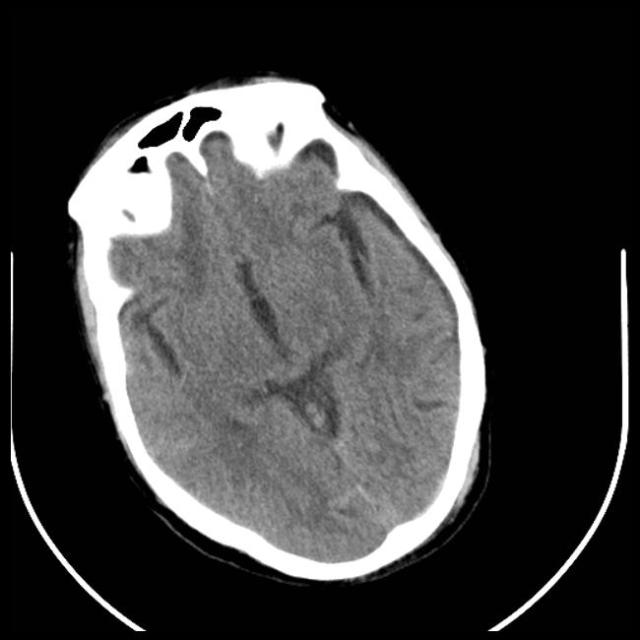lesion: (63, 72, 491, 581)
